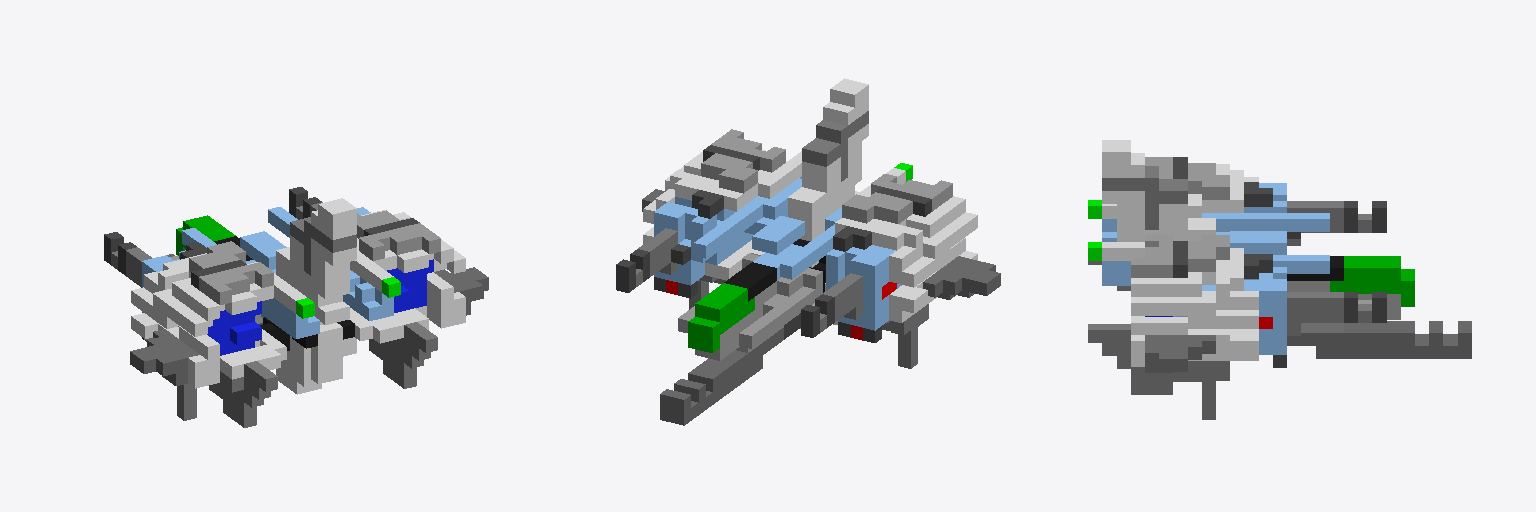
The picture shows the model from 3 angles: view 1: azimuth 30°, elevation 25°; view 2: azimuth 150°, elevation 25°; view 3: azimuth 270°, elevation 25°; orthographic projection.
Size of the model in its own units: 28 by 17 by 27.
Materials: 1 (1 with a texture image).